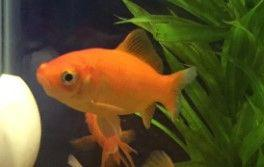Gold Fish: (38, 29, 197, 132)
